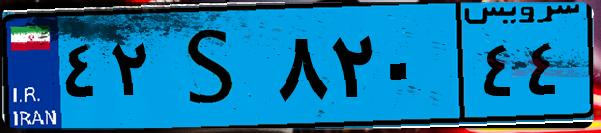0: (385, 28, 445, 110)
2: (330, 28, 385, 110), (110, 28, 158, 98)
4: (57, 26, 110, 100), (475, 38, 525, 113), (525, 38, 570, 115)
8: (270, 28, 330, 110)
S: (158, 12, 270, 120)
